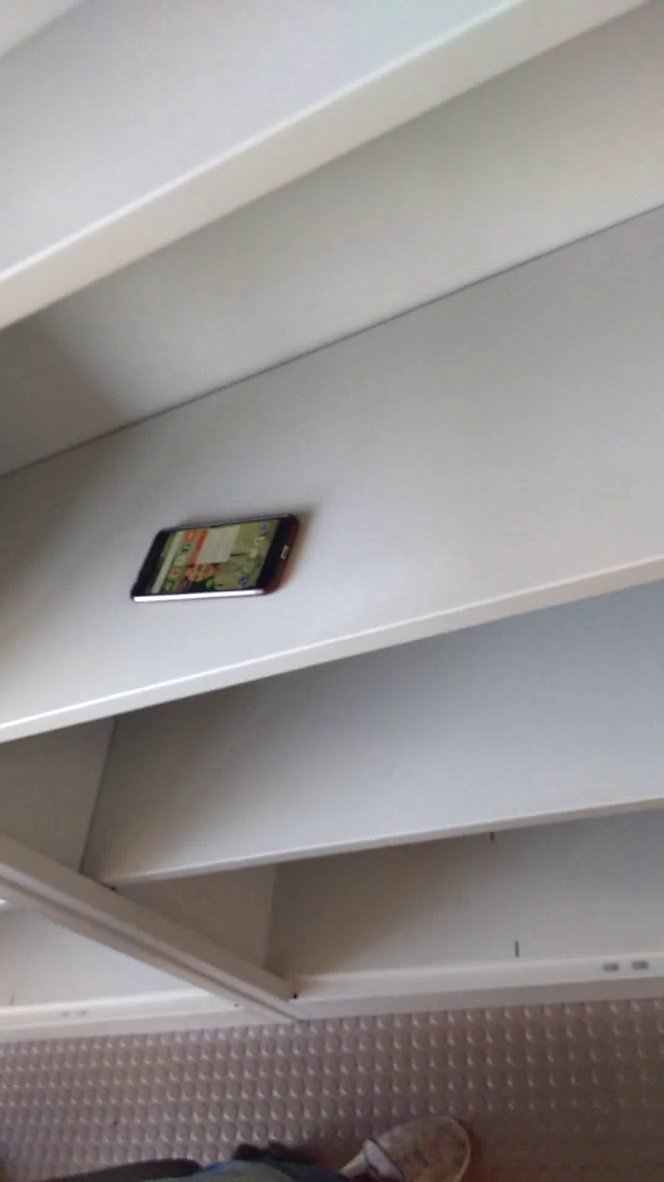phone: (118, 506, 316, 613)
